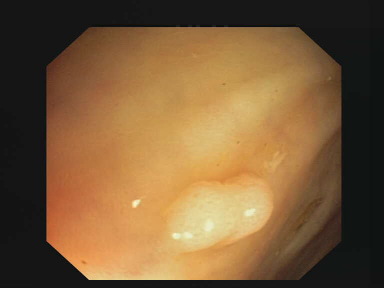polyp: (159, 142, 293, 261)
